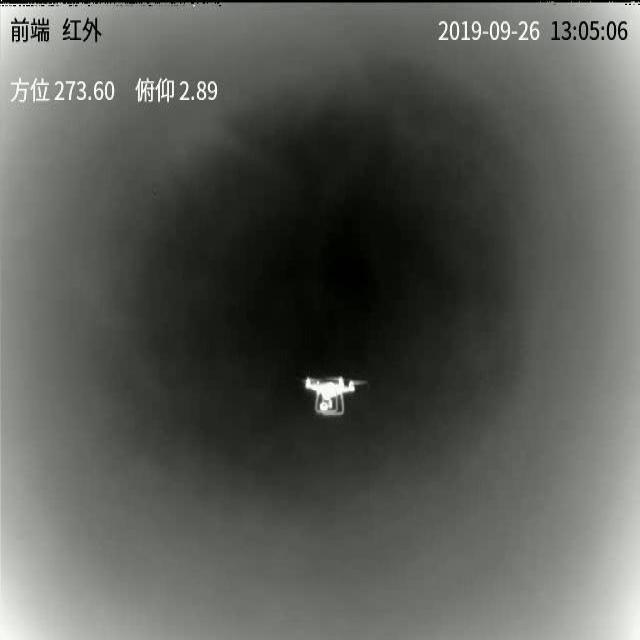drone: (300, 378, 358, 422)
